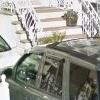stairs: (21, 7, 90, 48)
